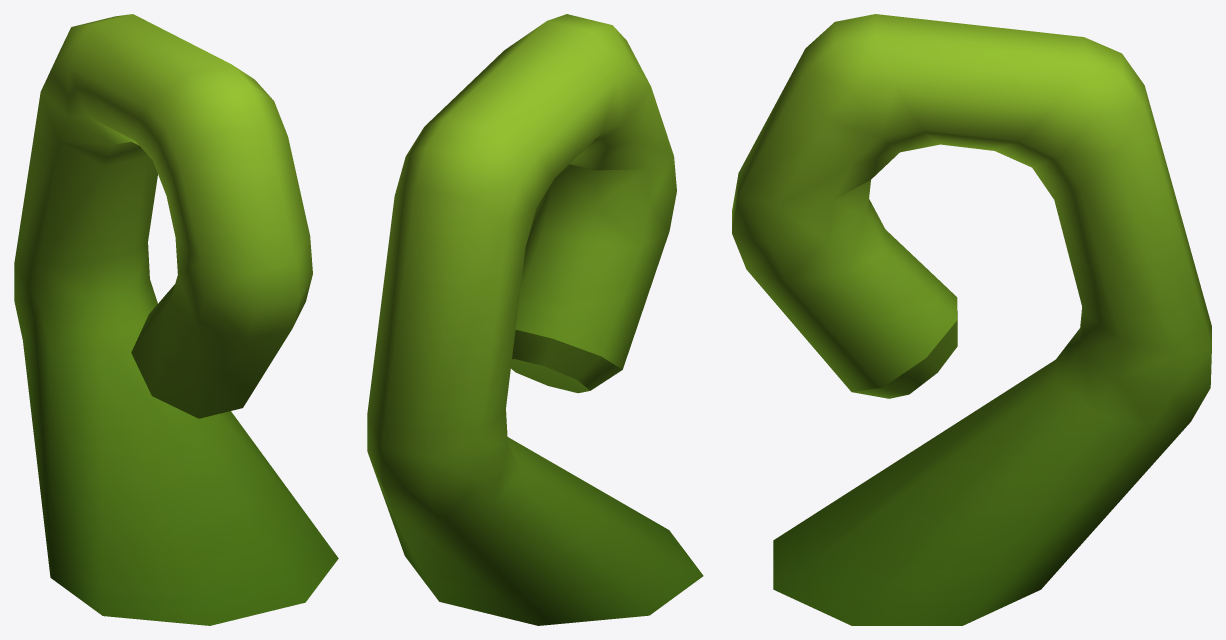
File: Vine_2_3.fbx
The picture shows the model from 3 angles, left to right: view 1: azimuth 30°, elevation 25°; view 2: azimuth 150°, elevation 25°; view 3: azimuth 270°, elevation 25°; orthographic projection. The views are drawn at different scales.
Parts seen in each view (by area): view 1: Vine_2_3; view 2: Vine_2_3; view 3: Vine_2_3.
Boxes of the visible parts, <box> form: Vine_2_3: <box>14,14,338,625</box>; Vine_2_3: <box>367,14,703,625</box>; Vine_2_3: <box>732,14,1211,625</box>.
Bounding box in the file's own units: 0.1341 × 0.2766 × 0.2229.
